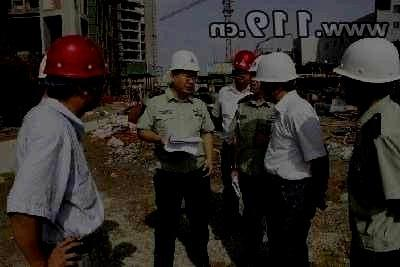helmet: (42, 34, 111, 110), (331, 37, 400, 106), (252, 51, 299, 103), (168, 49, 201, 94), (231, 49, 256, 84), (248, 54, 265, 93)
